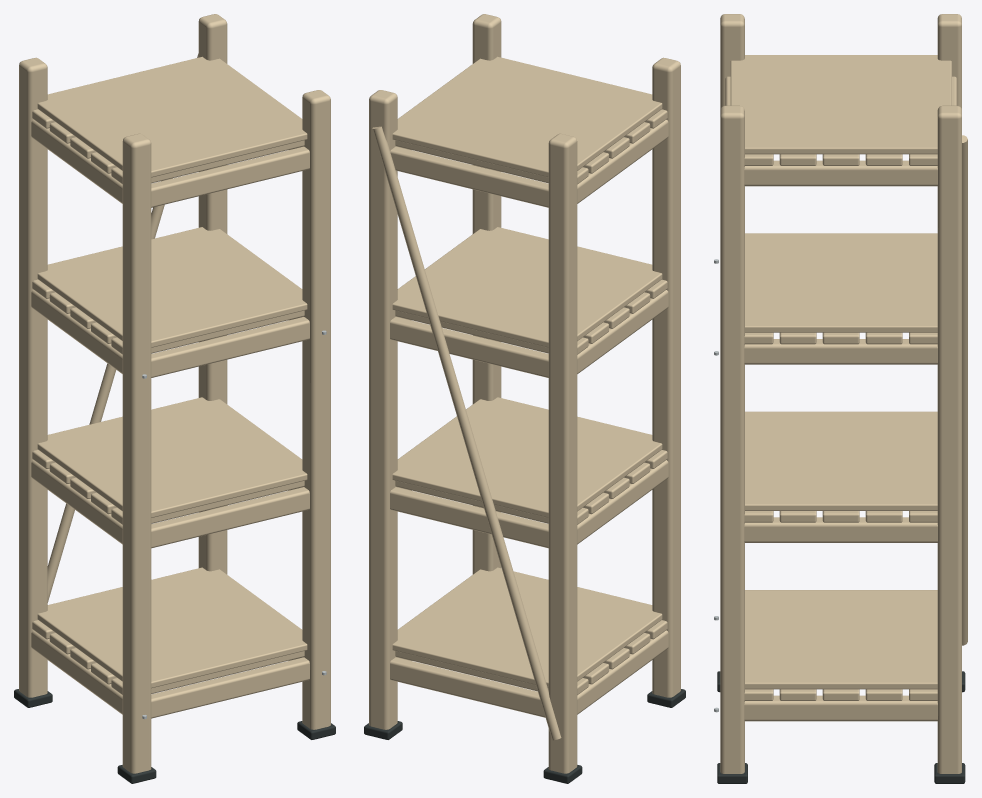
File: cheesemaking-and-dairy-cellar-aging-shelf-corner-38376ce7__30885.glb
3 renders of one model, left to right at view 1: azimuth 30°, elevation 25°; view 2: azimuth 150°, elevation 25°; view 3: azimuth 270°, elevation 25°, orthographic. The views are drawn at different scales.
Visible parts, largest first — view 1: aging-shelf-corner; view 2: aging-shelf-corner; view 3: aging-shelf-corner.
Part boxes in pixels (x1,y1,x2,y2): aging-shelf-corner: (14,14,335,783); aging-shelf-corner: (364,14,685,783); aging-shelf-corner: (714,14,967,783).
Bounding box in the file's own units: 0.605 × 1.8 × 0.6191.
